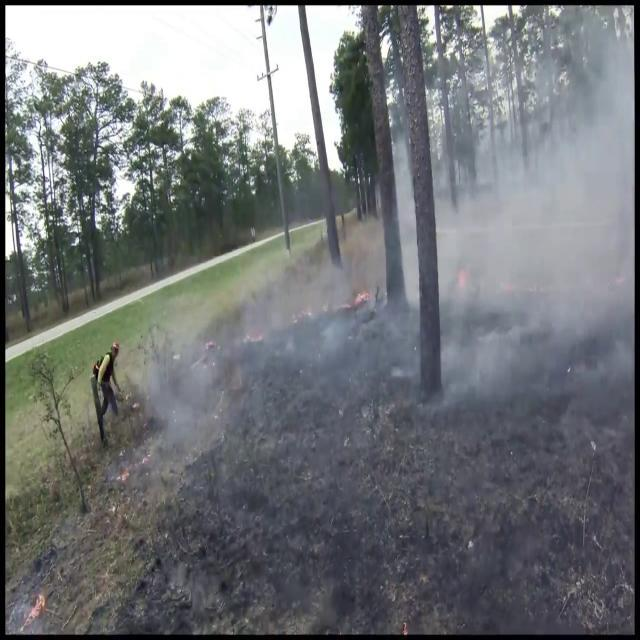Smoke: (420, 24, 634, 407), (154, 236, 339, 415)
